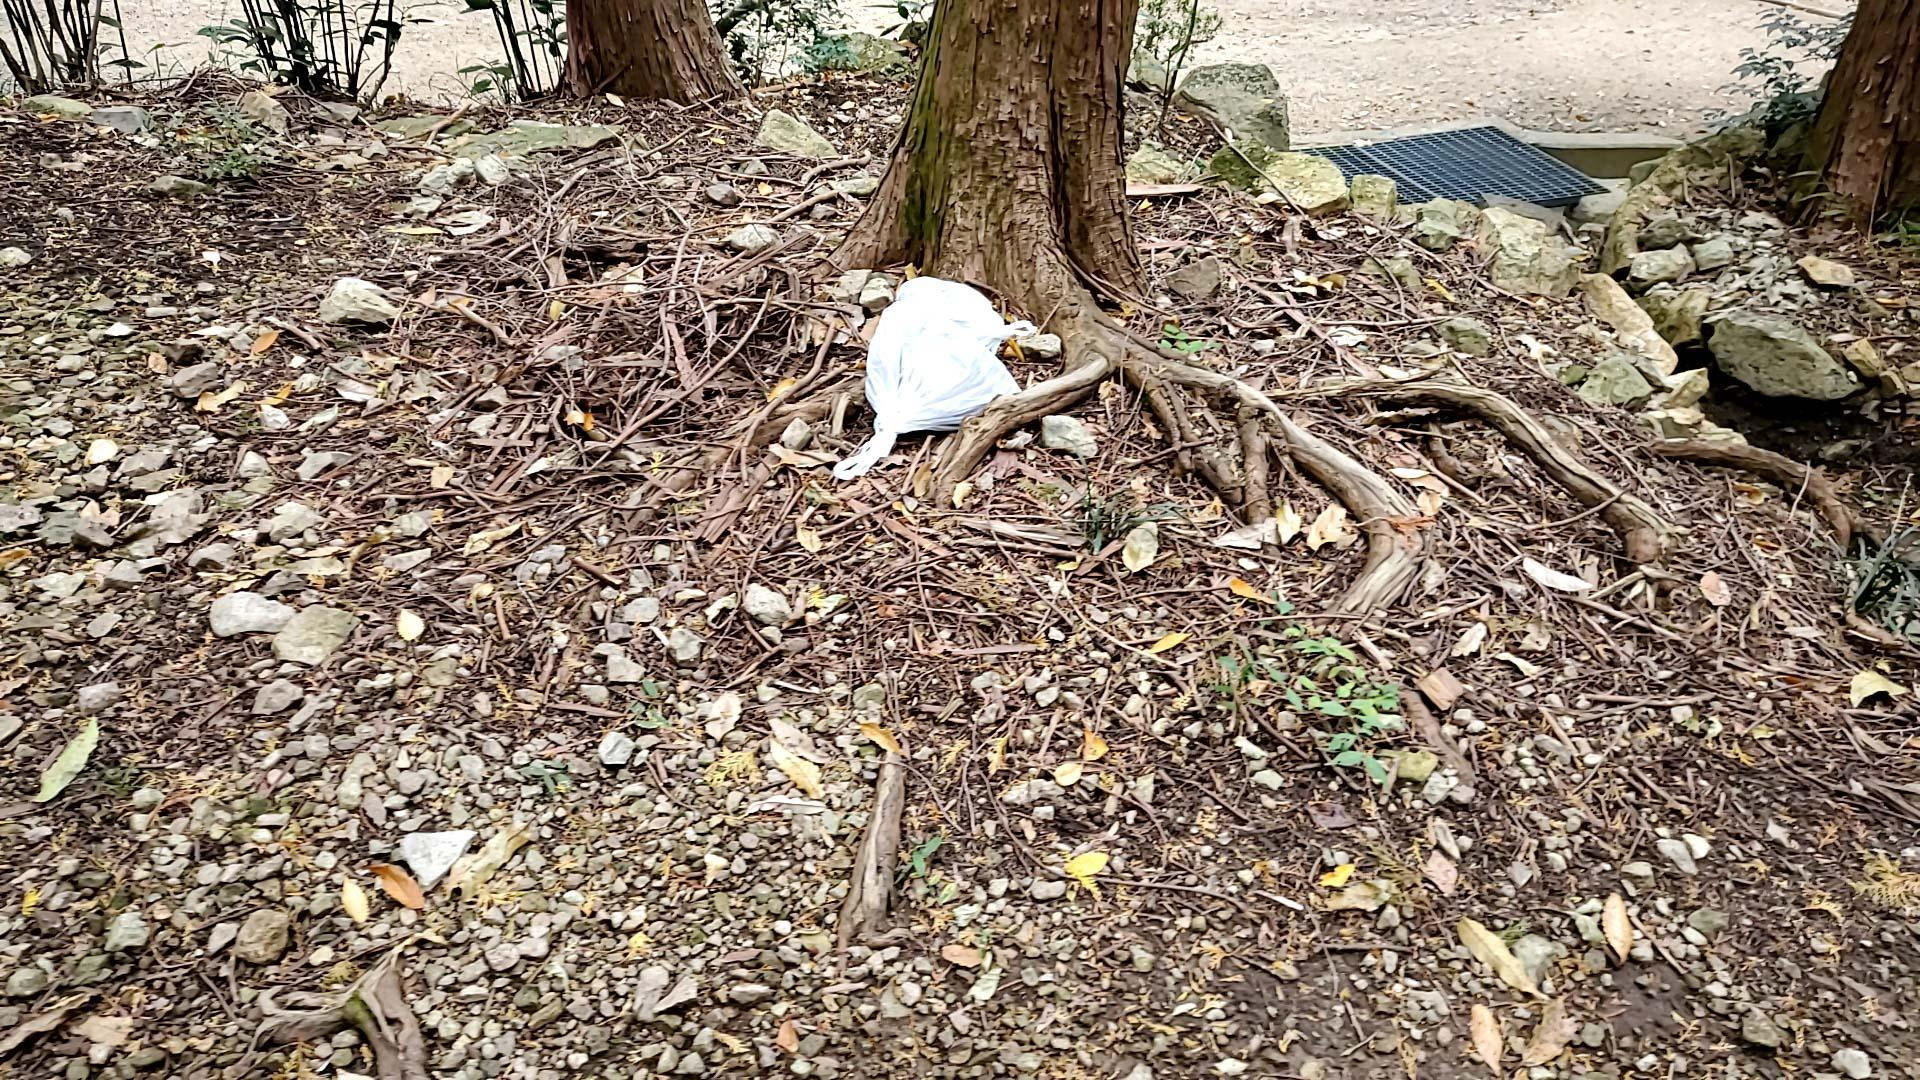white_bag: (810, 261, 1043, 476)
